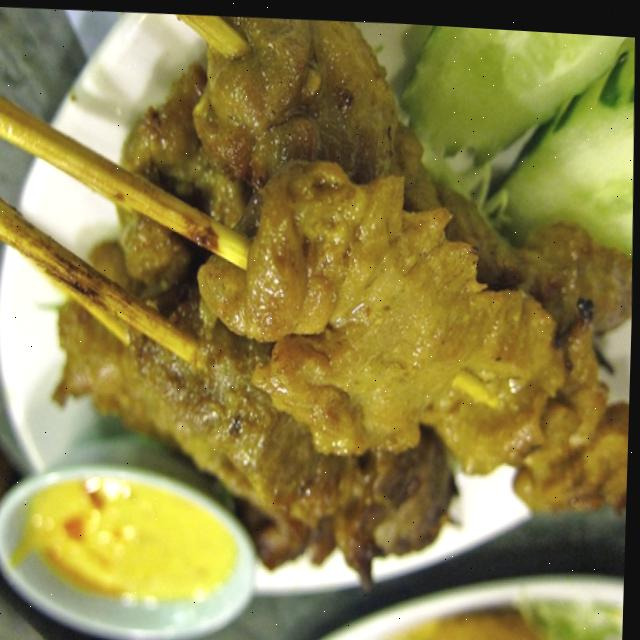牛肉菜式: (0, 7, 639, 611)
